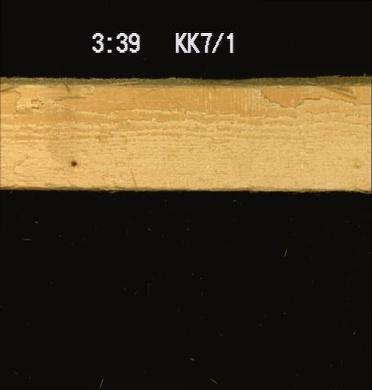small_knot: (66, 156, 79, 169)
